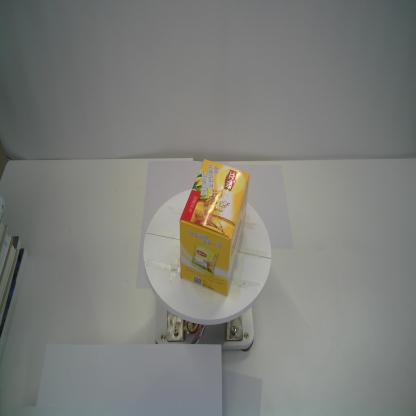Instant Drink: (178, 152, 252, 300)
